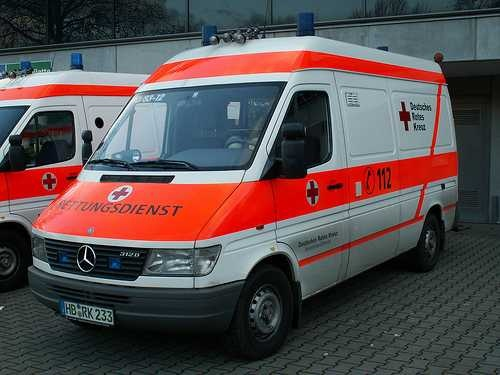Ambulance: (33, 40, 456, 353), (4, 59, 134, 291)
